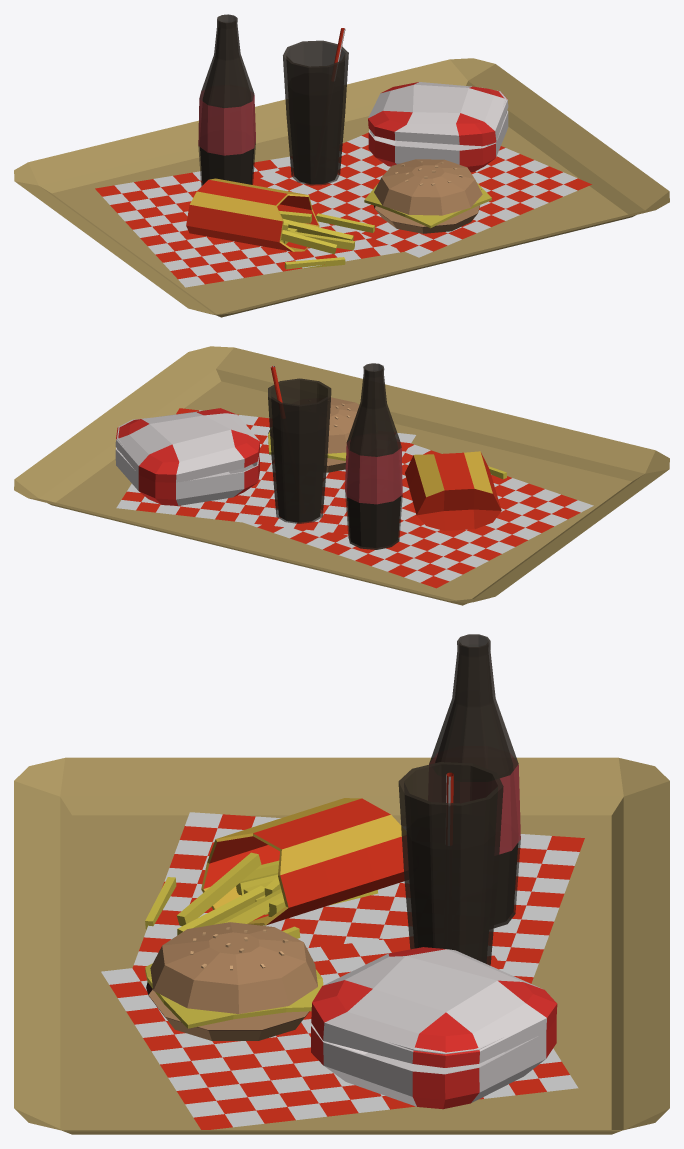
File: FastFood.fbx
The picture shows the model from 3 angles, top to bottom: view 1: azimuth 30°, elevation 25°; view 2: azimuth 150°, elevation 25°; view 3: azimuth 270°, elevation 25°; orthographic projection. The views are drawn at different scales.
Parts seen in each view (by area): view 1: Plane, Plane.001, Plane.002, Cube.014, Cylinder.001, Cylinder, Cylinder.002, Cube, Cube.009, Cube.007, Cube.011, Cube.010; view 2: Plane, Plane.002, Cube.014, Cylinder, Cylinder.001, Plane.001, Cube, Cylinder.002; view 3: Plane, Cube.014, Plane.001, Plane.002, Cylinder.001, Cylinder.002, Cube, Cylinder, Cube.009, Cube.008, Cube.007.
Part boxes in pixels (x1,y1,x2,y2): Plane: (14, 58, 669, 317); Plane.001: (252, 132, 591, 257); Plane.002: (95, 156, 403, 287); Cube.014: (368, 82, 508, 172); Cylinder.001: (283, 40, 348, 185); Cylinder: (198, 14, 255, 186); Cylinder.002: (364, 159, 491, 233); Cube: (186, 178, 319, 251); Cube.009: (281, 230, 337, 254); Cube.007: (283, 219, 353, 240); Cube.011: (284, 257, 345, 269); Cube.010: (316, 213, 374, 232); Plane: (14, 346, 669, 605); Plane.002: (244, 443, 593, 588); Cube.014: (115, 408, 259, 505); Cylinder: (345, 363, 402, 549); Cylinder.001: (268, 378, 331, 523); Plane.001: (116, 408, 415, 534); Cube: (405, 451, 501, 530); Cylinder.002: (268, 397, 359, 472); Plane: (14, 757, 669, 1134); Cube.014: (311, 947, 557, 1109); Plane.001: (101, 936, 578, 1129); Plane.002: (132, 812, 584, 983); Cylinder.001: (398, 762, 503, 965); Cylinder.002: (145, 922, 323, 1040); Cube: (201, 798, 404, 925); Cylinder: (429, 634, 520, 928); Cube.009: (176, 852, 261, 925); Cube.008: (177, 885, 264, 935); Cube.007: (214, 889, 282, 924).
Size of the model in its own units: 1458 by 504 by 1082.
